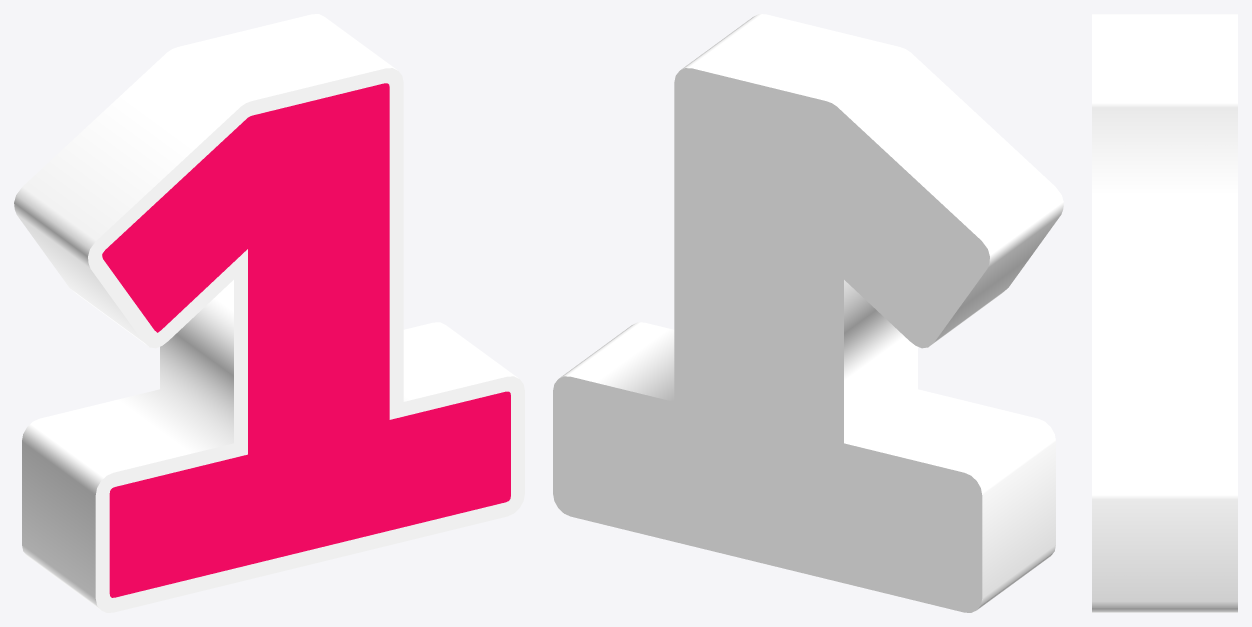
Rendered from number_1.glb.
3 renders of one model, left to right at view 1: azimuth 30°, elevation 25°; view 2: azimuth 150°, elevation 25°; view 3: azimuth 270°, elevation 25°, orthographic.
Parts seen in each view (by area): view 1: Nmbr.1; view 2: Nmbr.1; view 3: Nmbr.1.
Boxes of the visible parts, x1,y1,x2,y2 form: Nmbr.1: (14,14,524,612); Nmbr.1: (553,14,1063,612); Nmbr.1: (1092,14,1237,612).
Bounding box in the file's own units: 1.04 × 1.09 × 0.3052.
Materials: 1 (1 with a texture image).
